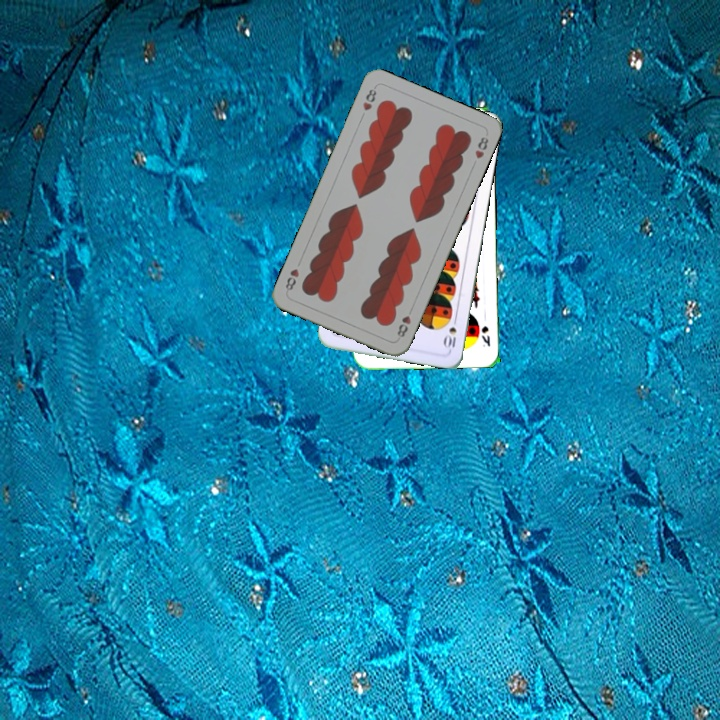H8: (393, 303, 415, 340), (359, 82, 379, 113)
S10: (441, 312, 460, 353)
SK: (478, 322, 492, 349)
